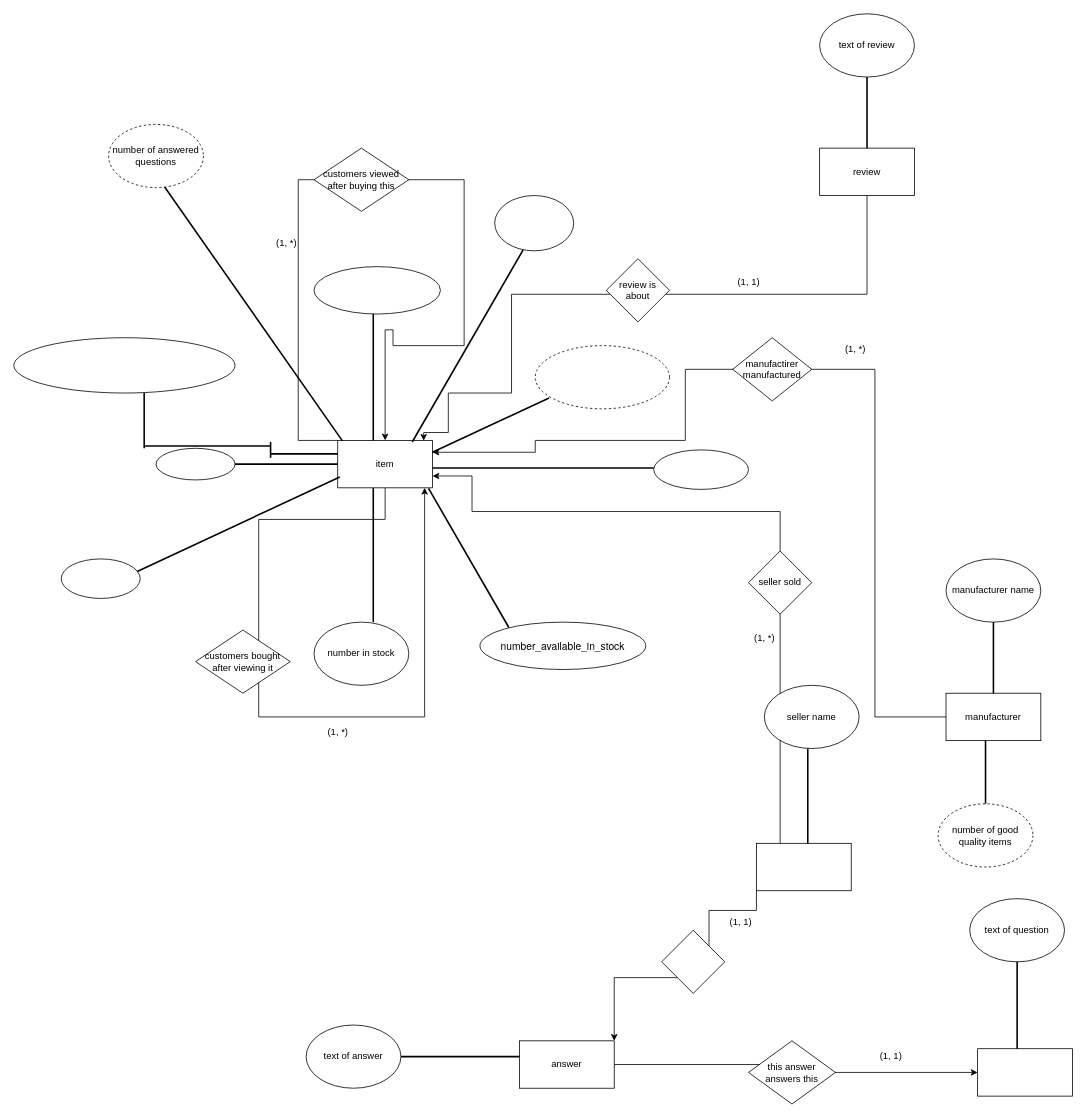
Some shapes in this 1086 by 1118 pixel diagram are drawn without their labels. The box of each missing label's shape, as (x1, y1, x2, y2) in pixels:
amazon_category_and_sub_category: (13, 337, 235, 393)
average_review_rating: (313, 266, 440, 314)
description: (155, 448, 235, 480)
information: (653, 449, 749, 489)
number_of_reviews: (534, 345, 670, 409)
price: (60, 558, 140, 598)
product_name: (494, 195, 574, 251)
question: (977, 1048, 1072, 1096)
seller: (756, 843, 851, 891)
seller answered: (661, 929, 725, 993)
